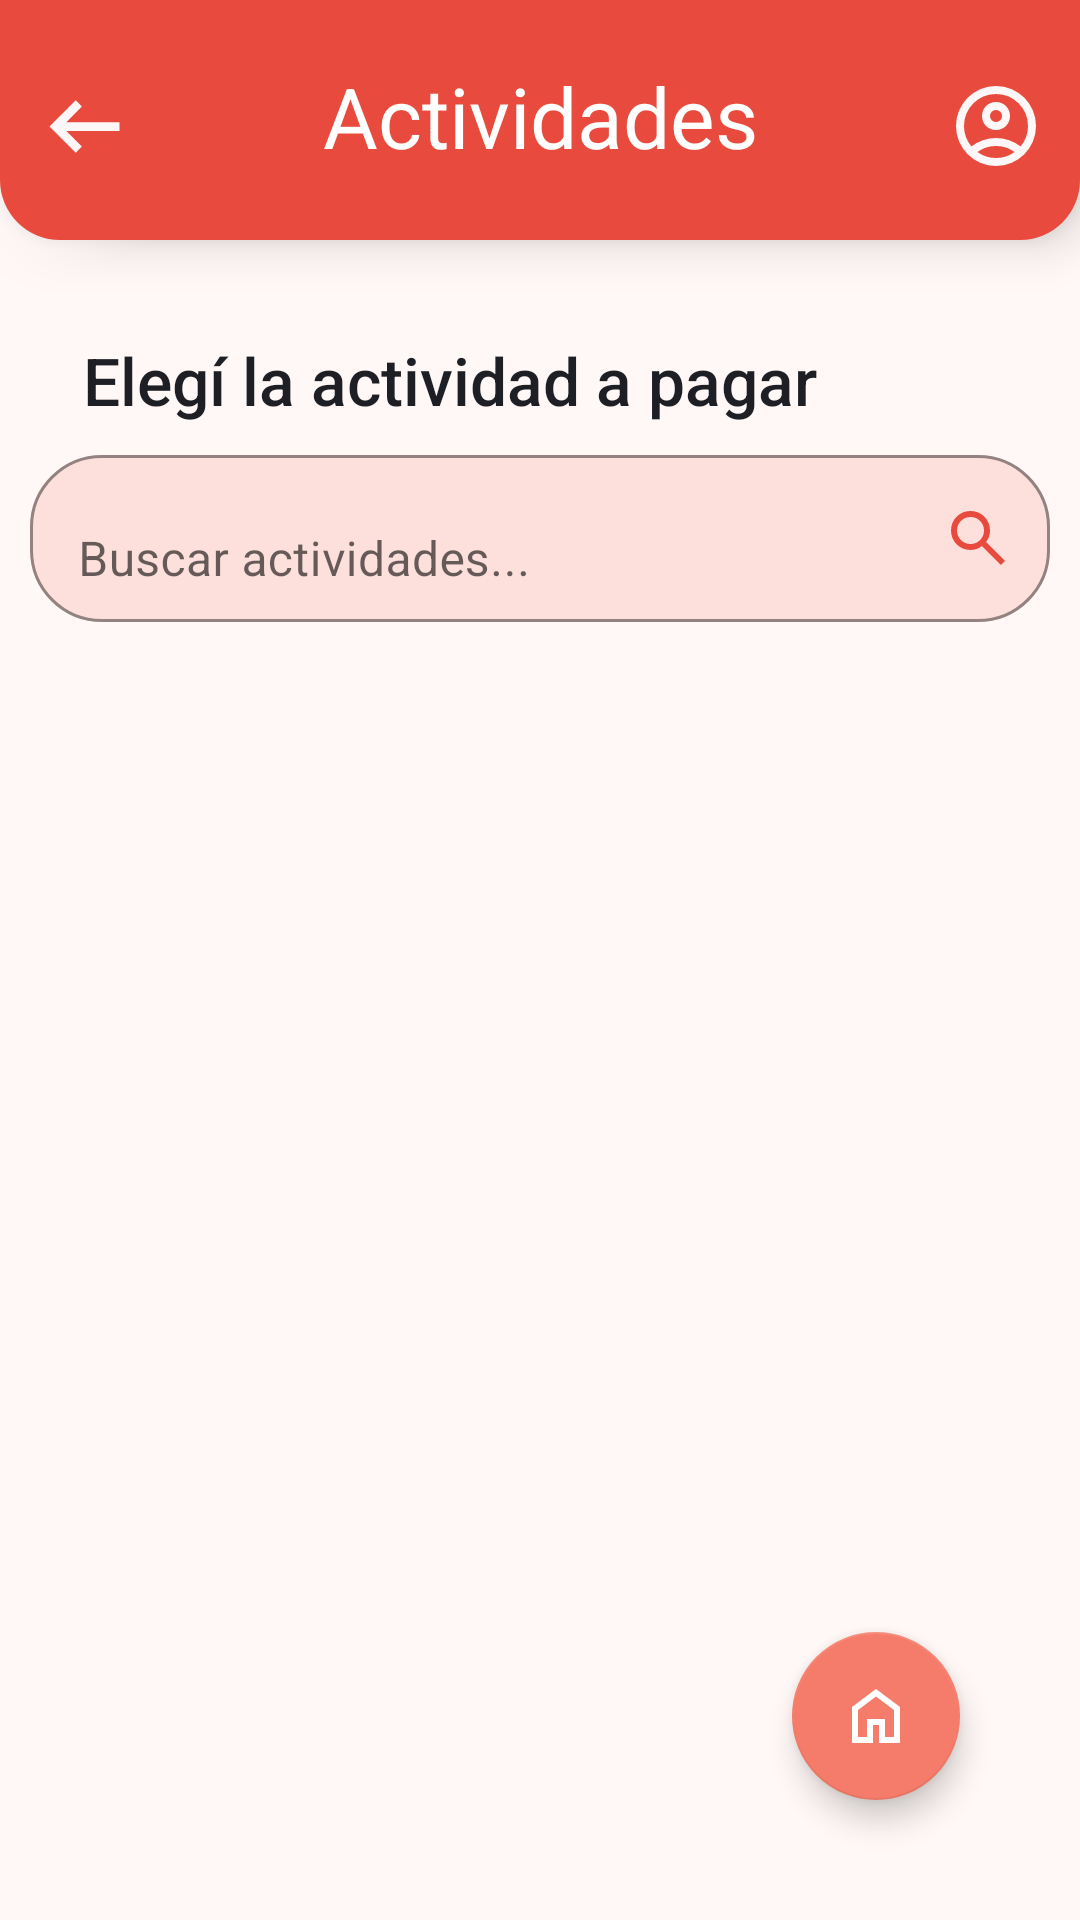

Icons on this 1080w x 1920h Android screen, each with the point to tap as (x=x, y=y):
home: (x=876, y=1716)
